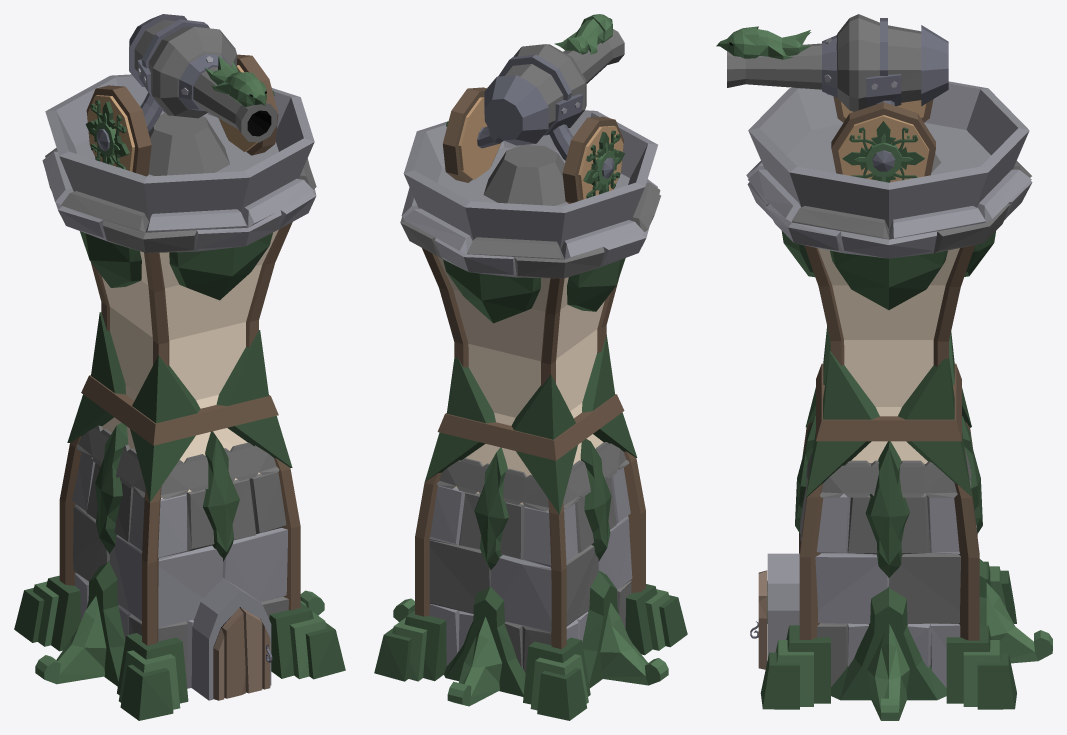
The model's file is Cannon_Tower_LVL_3.gltf.
The picture shows the model from 3 angles, left to right: view 1: azimuth 30°, elevation 25°; view 2: azimuth 150°, elevation 25°; view 3: azimuth 270°, elevation 25°; orthographic projection. The views are drawn at different scales.
Parts seen in each view (by area): view 1: Cannon_Tower_LVL_3_Body, Cannon_Tower_LVL_3_Head; view 2: Cannon_Tower_LVL_3_Body, Cannon_Tower_LVL_3_Head; view 3: Cannon_Tower_LVL_3_Body, Cannon_Tower_LVL_3_Head.
Boxes of the visible parts, <box> form: Cannon_Tower_LVL_3_Body: <box>14,174,345,720</box>; Cannon_Tower_LVL_3_Head: <box>42,14,316,232</box>; Cannon_Tower_LVL_3_Body: <box>374,194,687,720</box>; Cannon_Tower_LVL_3_Head: <box>401,14,660,262</box>; Cannon_Tower_LVL_3_Body: <box>747,182,1052,720</box>; Cannon_Tower_LVL_3_Head: <box>716,14,1032,239</box>.
Size of the model in its own units: 3.45 by 7.44 by 3.55.
Materials: 2 (2 with a texture image).
